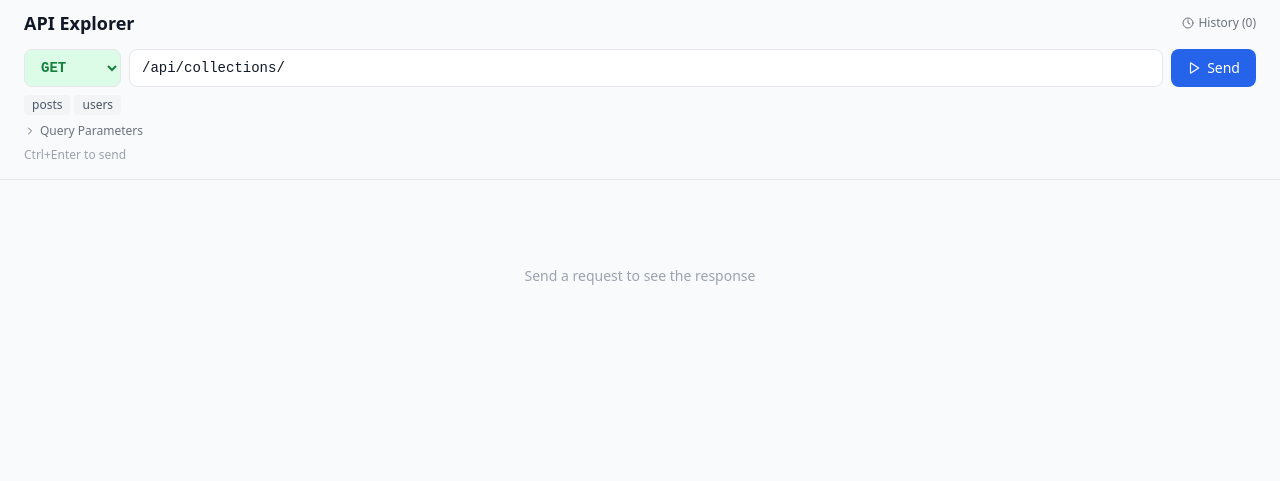
ApiExplorer › shows error response status
Replace the text in the field named "Request path" with "/api/collections/nonexistent" at (646, 68), box [129, 49, 1163, 87]
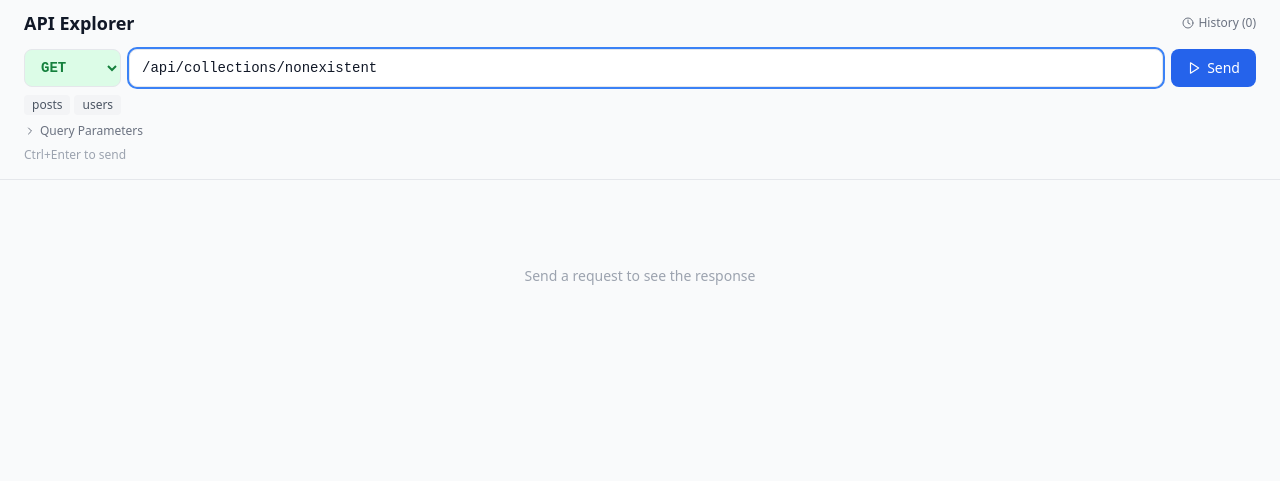
Click the button "Send" at (1214, 68), box [1171, 49, 1256, 87]
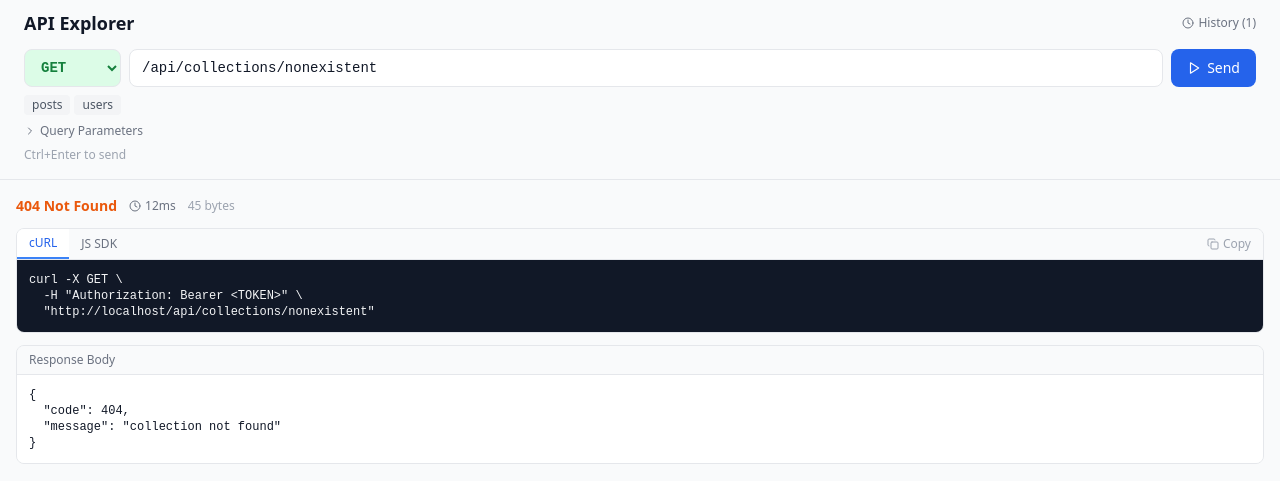
Now the text "404 Not Found" is shown, box [16, 196, 117, 216]
